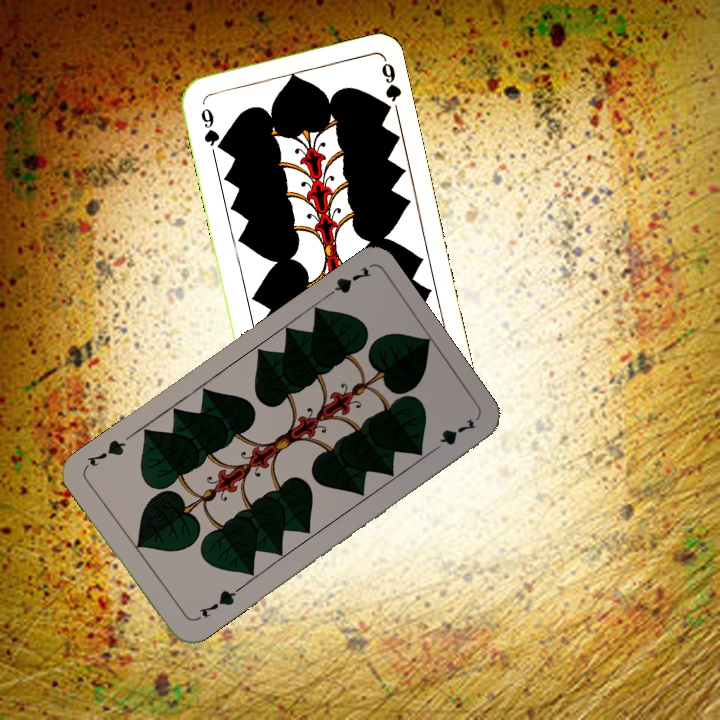G7: (318, 262, 374, 302), (195, 584, 242, 620)
G9: (196, 104, 226, 154)
